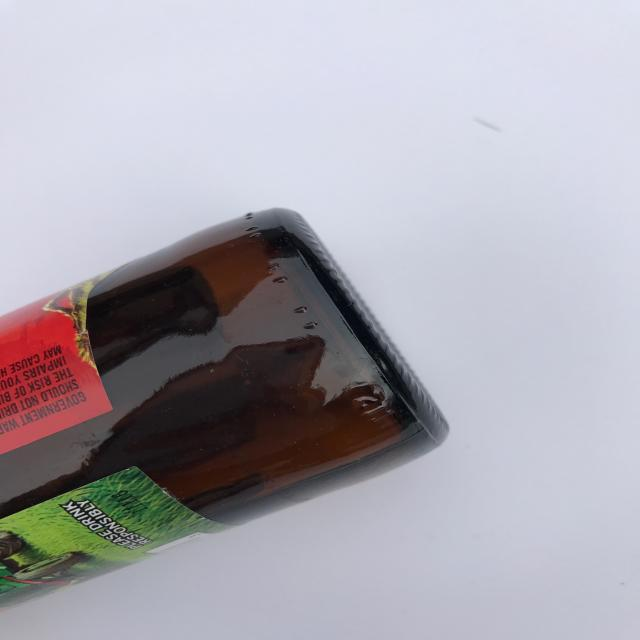glass: (2, 206, 448, 612)
